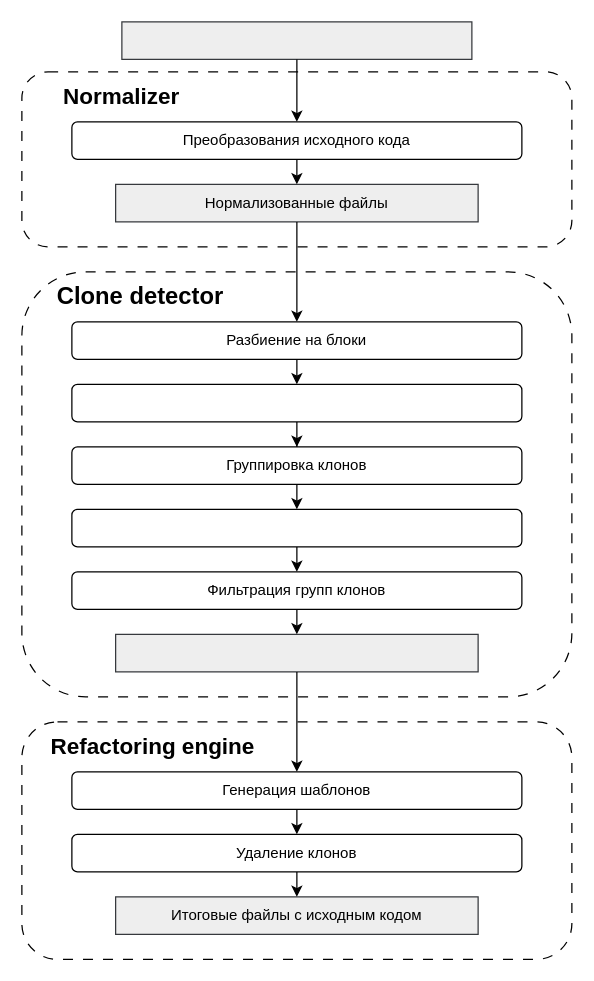
Image size: 594x981. Some labels were removed from this diagram. Each missing label, with the centre of its shape:
"Диаграмма вложенности и информация об оригинальных файлах" belongs at pixel 296 652.
"Построение диаграммы вложенности групп клонов" belongs at pixel 296 527.
"Файлы с исходным кодом" belongs at pixel 296 40.
"Фильтрация и индексация блоков" belongs at pixel 296 402.
